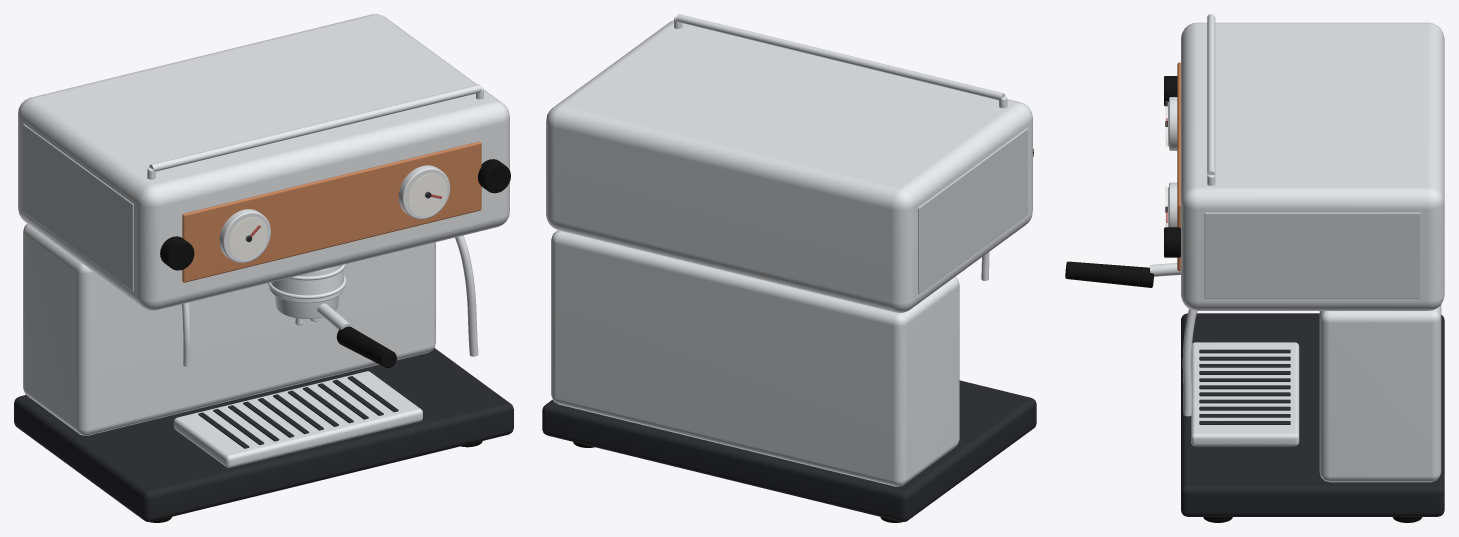
Rendered from espresso-machine.glb.
3 views of the same model, side by side, from view 1: azimuth 30°, elevation 25°; view 2: azimuth 150°, elevation 25°; view 3: azimuth 270°, elevation 25° (orthographic).
Visible parts, largest first — view 1: Body, Column, Plinth, Front plate, Drip tray, Side panel, Rail, Group head, Gauge glass, Gauge glass.001, Gauge face.001, Gauge face (+7 smaller); view 2: Body, Column, Plinth, Side panel, Rail; view 3: Body, Plinth, Column, Side panel.001, Drip tray, Portafilter grip, Rail, Steam wand, Front plate, Knob.001, Gauge bezel, Grate slot.001 (+5 smaller).
Part boxes in pixels (x1=…): Body: x1=18, y1=14, x2=509, y2=310; Column: x1=23, y1=223, x2=435, y2=435; Plinth: x1=14, y1=348, x2=513, y2=521; Front plate: x1=182, y1=141, x2=481, y2=282; Drip tray: x1=174, y1=371, x2=422, y2=467; Side panel: x1=23, y1=124, x2=133, y2=291; Rail: x1=149, y1=84, x2=481, y2=171; Group head: x1=269, y1=265, x2=344, y2=303; Gauge glass: x1=228, y1=217, x2=268, y2=260; Gauge glass.001: x1=408, y1=173, x2=448, y2=216; Gauge face.001: x1=407, y1=173, x2=446, y2=215; Gauge face: x1=228, y1=216, x2=267, y2=259; Body: x1=546, y1=20, x2=1032, y2=312; Column: x1=551, y1=230, x2=959, y2=486; Plinth: x1=542, y1=380, x2=1036, y2=521; Side panel: x1=918, y1=128, x2=1027, y2=293; Rail: x1=676, y1=14, x2=1005, y2=100; Body: x1=1181, y1=22, x2=1444, y2=310; Plinth: x1=1181, y1=313, x2=1444, y2=516; Column: x1=1319, y1=304, x2=1441, y2=482; Side panel.001: x1=1204, y1=212, x2=1420, y2=298; Drip tray: x1=1191, y1=342, x2=1299, y2=446; Portafilter grip: x1=1065, y1=261, x2=1153, y2=287; Rail: x1=1207, y1=14, x2=1215, y2=175; Steam wand: x1=1182, y1=309, x2=1197, y2=416; Front plate: x1=1177, y1=62, x2=1180, y2=271; Knob.001: x1=1164, y1=227, x2=1180, y2=257; Gauge bezel: x1=1169, y1=97, x2=1177, y2=150; Grate slot.001: x1=1199, y1=356, x2=1290, y2=360.
Size of the model in its own units: 1.25 by 1.14 by 1.12.
